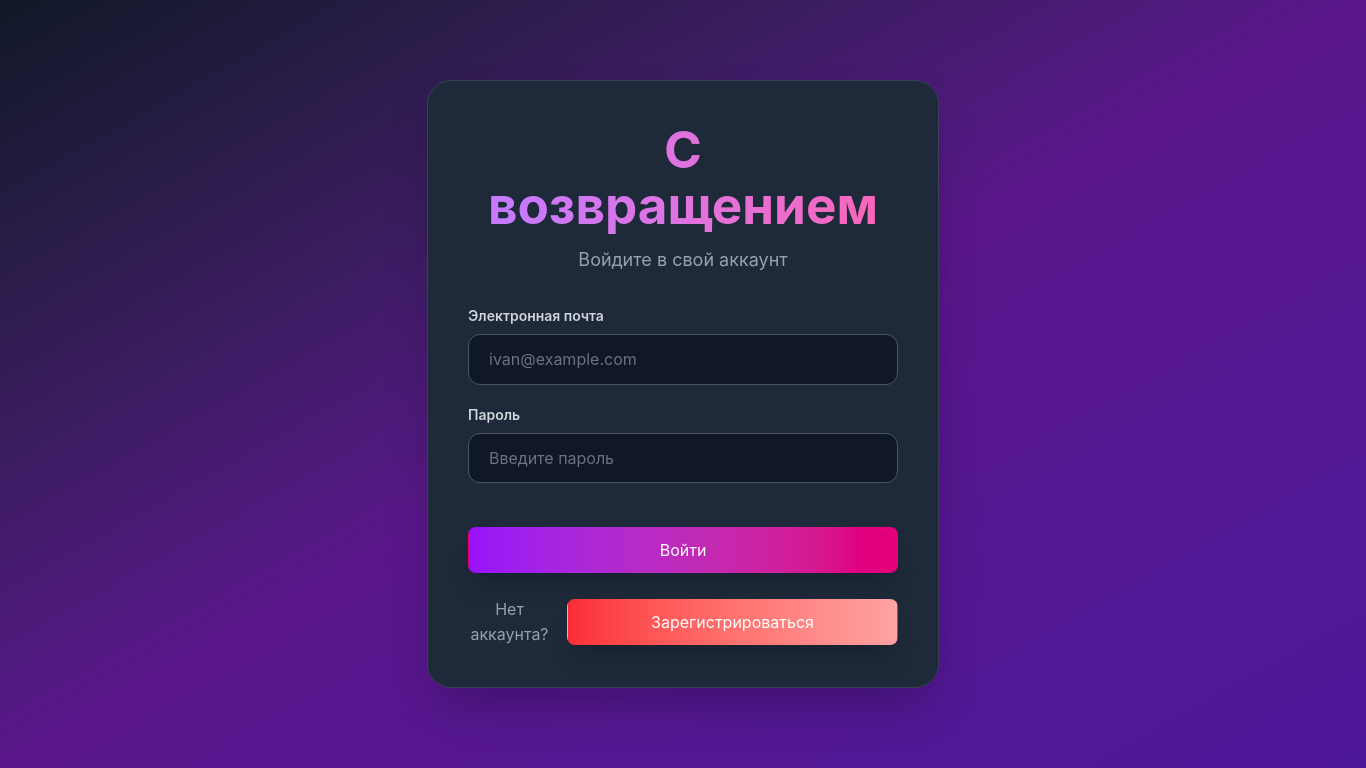
Login Page Coverage (60%+) › должен показывать состояние загрузки на кнопке
This screenshot has width=1366, height=768.
Type "loading@test.com" into the field with placeholder "ivan@example.com" at [683, 359], box left=468, top=334, right=898, bottom=384
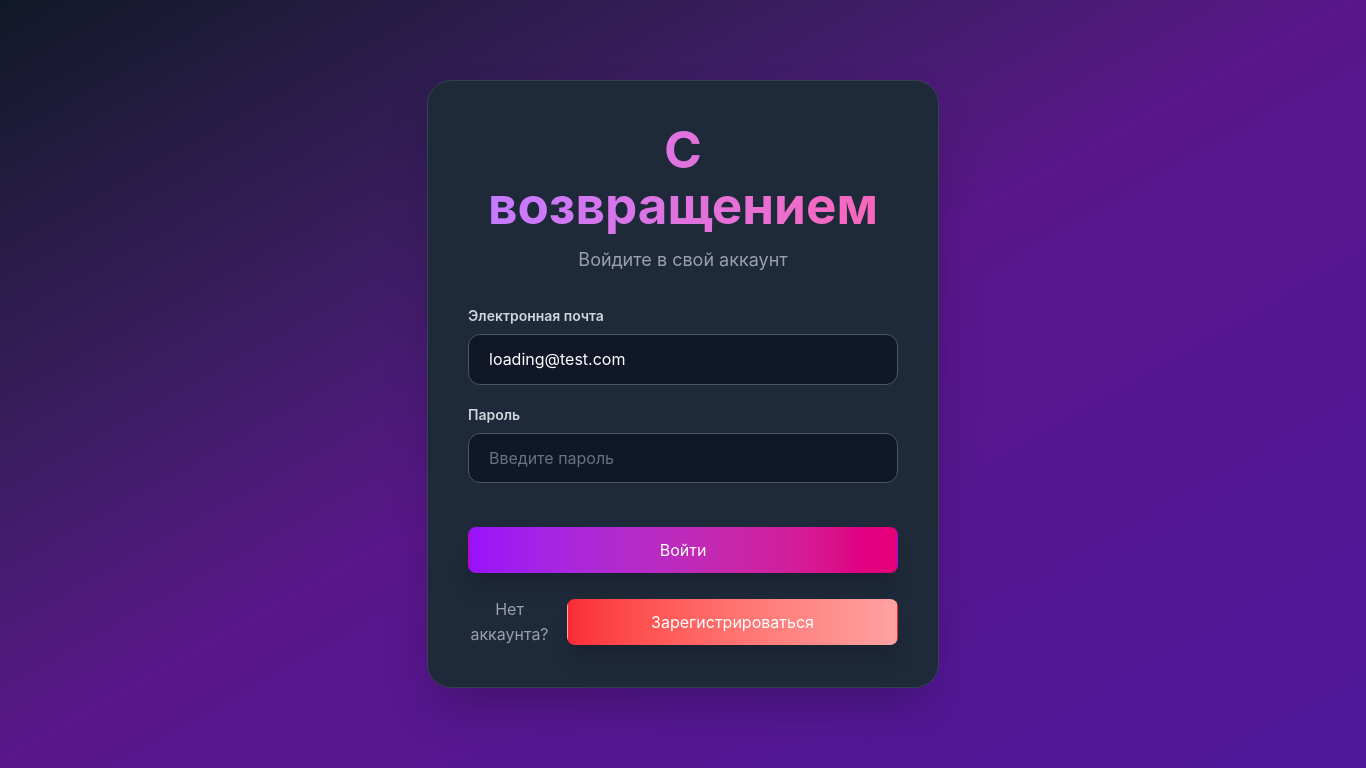
Type "password123" into the password field with placeholder "Введите пароль" at [683, 458], box left=468, top=432, right=898, bottom=483
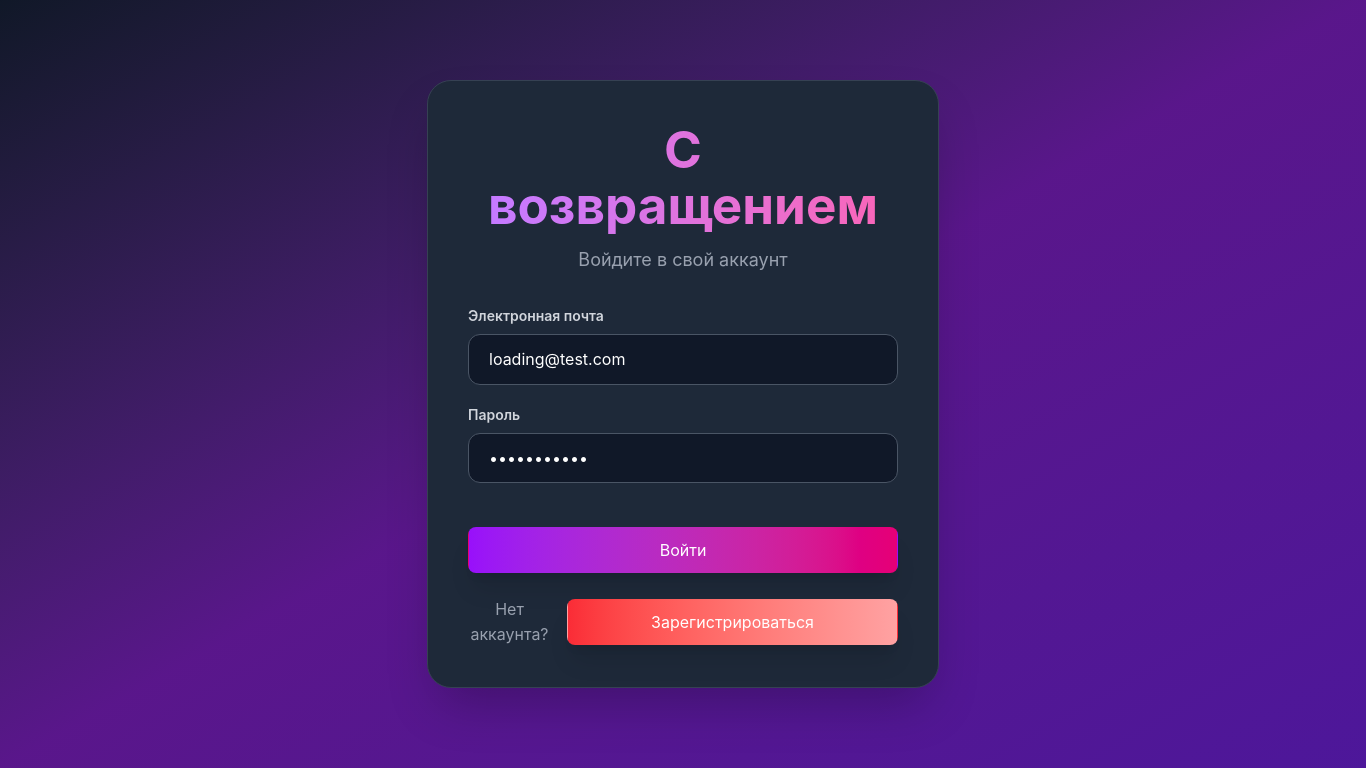
Click the button "Войти" at [683, 550], box left=468, top=527, right=898, bottom=573
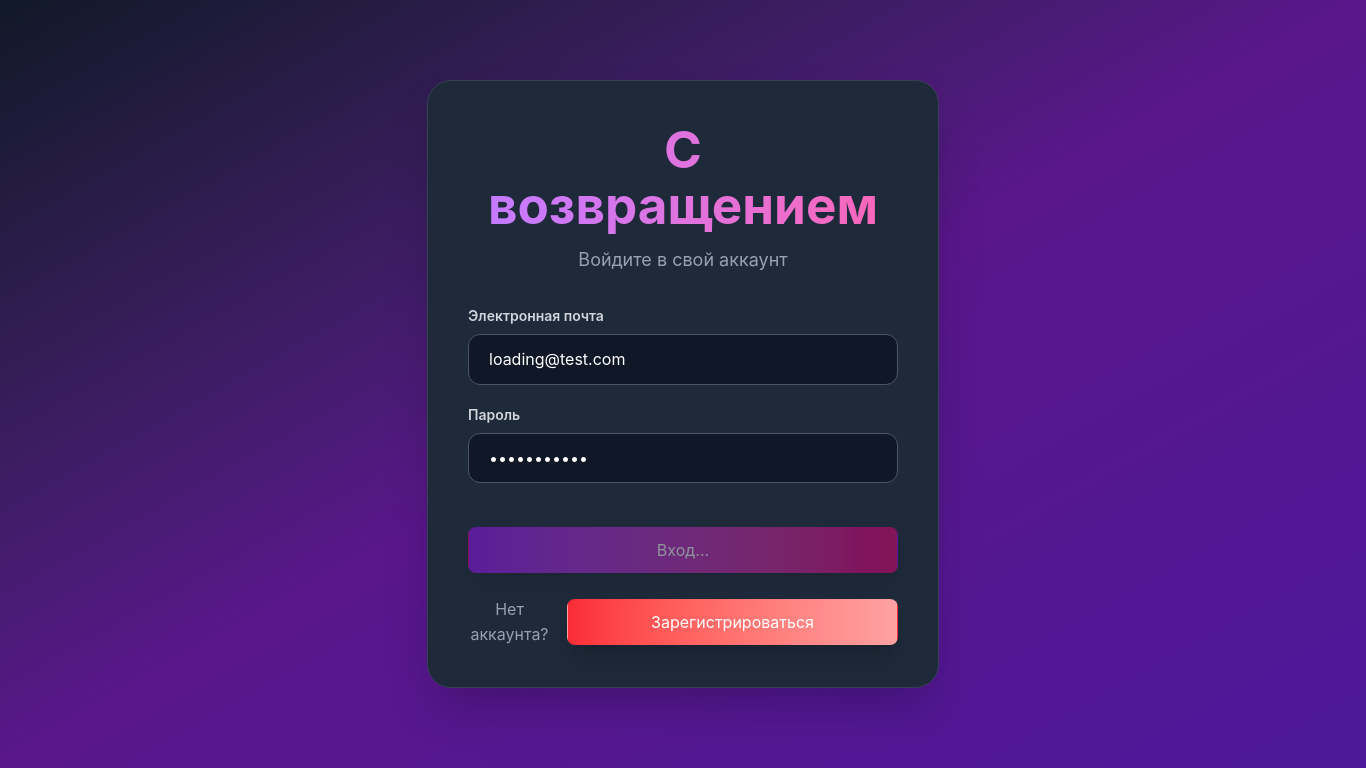
Expected: the button "Вход..." is shown, left=468, top=527, right=898, bottom=573
